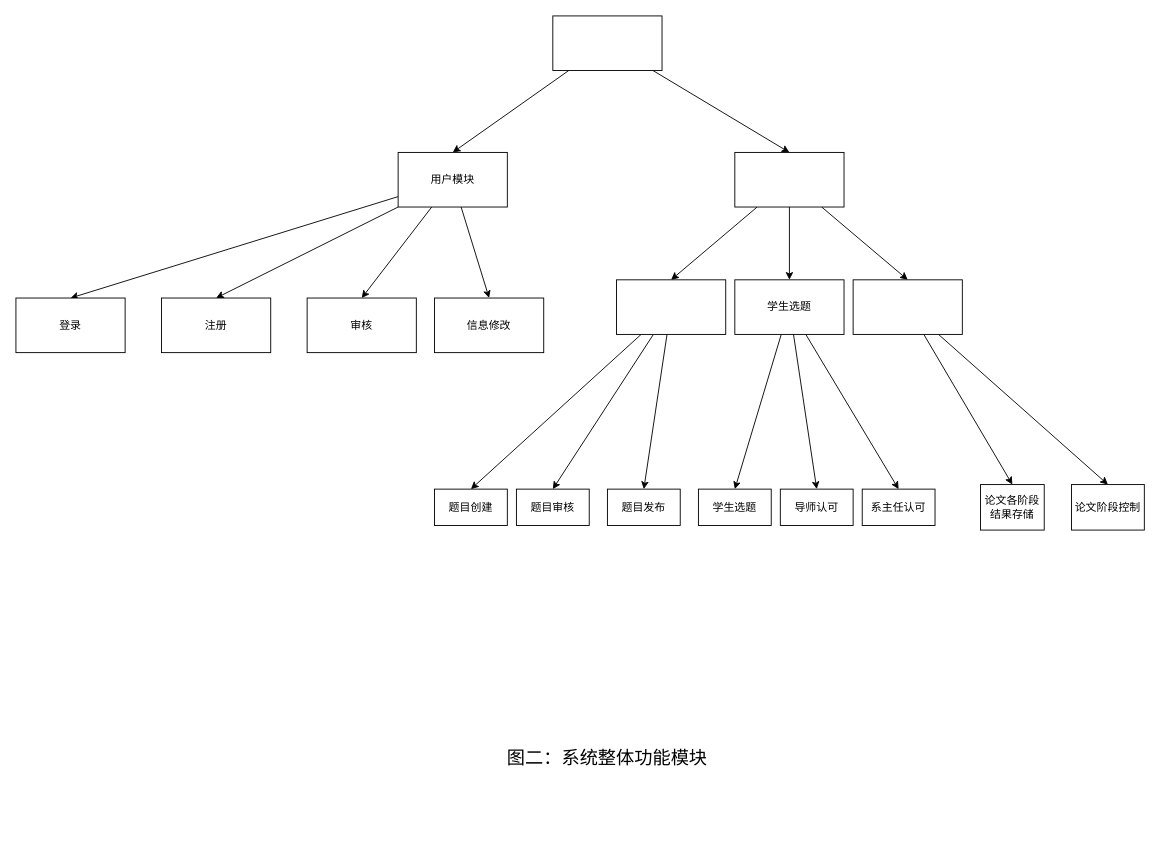
The diagram is 1160 pixels wide and 842 high, and some of its shapes have lost their labels. Here are the shapes that lost their labels. From the top down, the centre of each, then its label:
At (607,43): "毕业设计管理系统".
At (789,179): "毕业设计管理模块".
At (671,306): "论文题目".
At (907,306): "进程管理".
